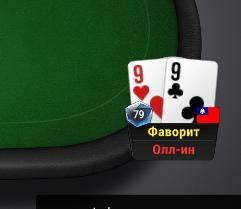9c: (165, 58, 220, 126)
9h: (127, 59, 165, 123)
